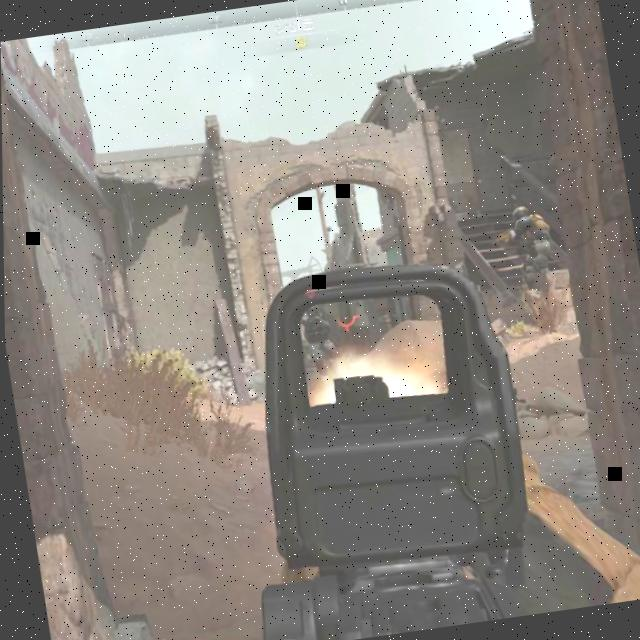MW2_body: (503, 203, 560, 301), (297, 303, 341, 382)
